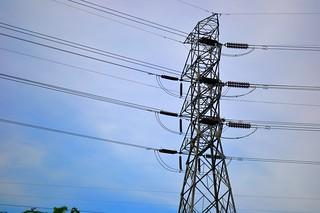power_tower: (148, 11, 252, 213)
